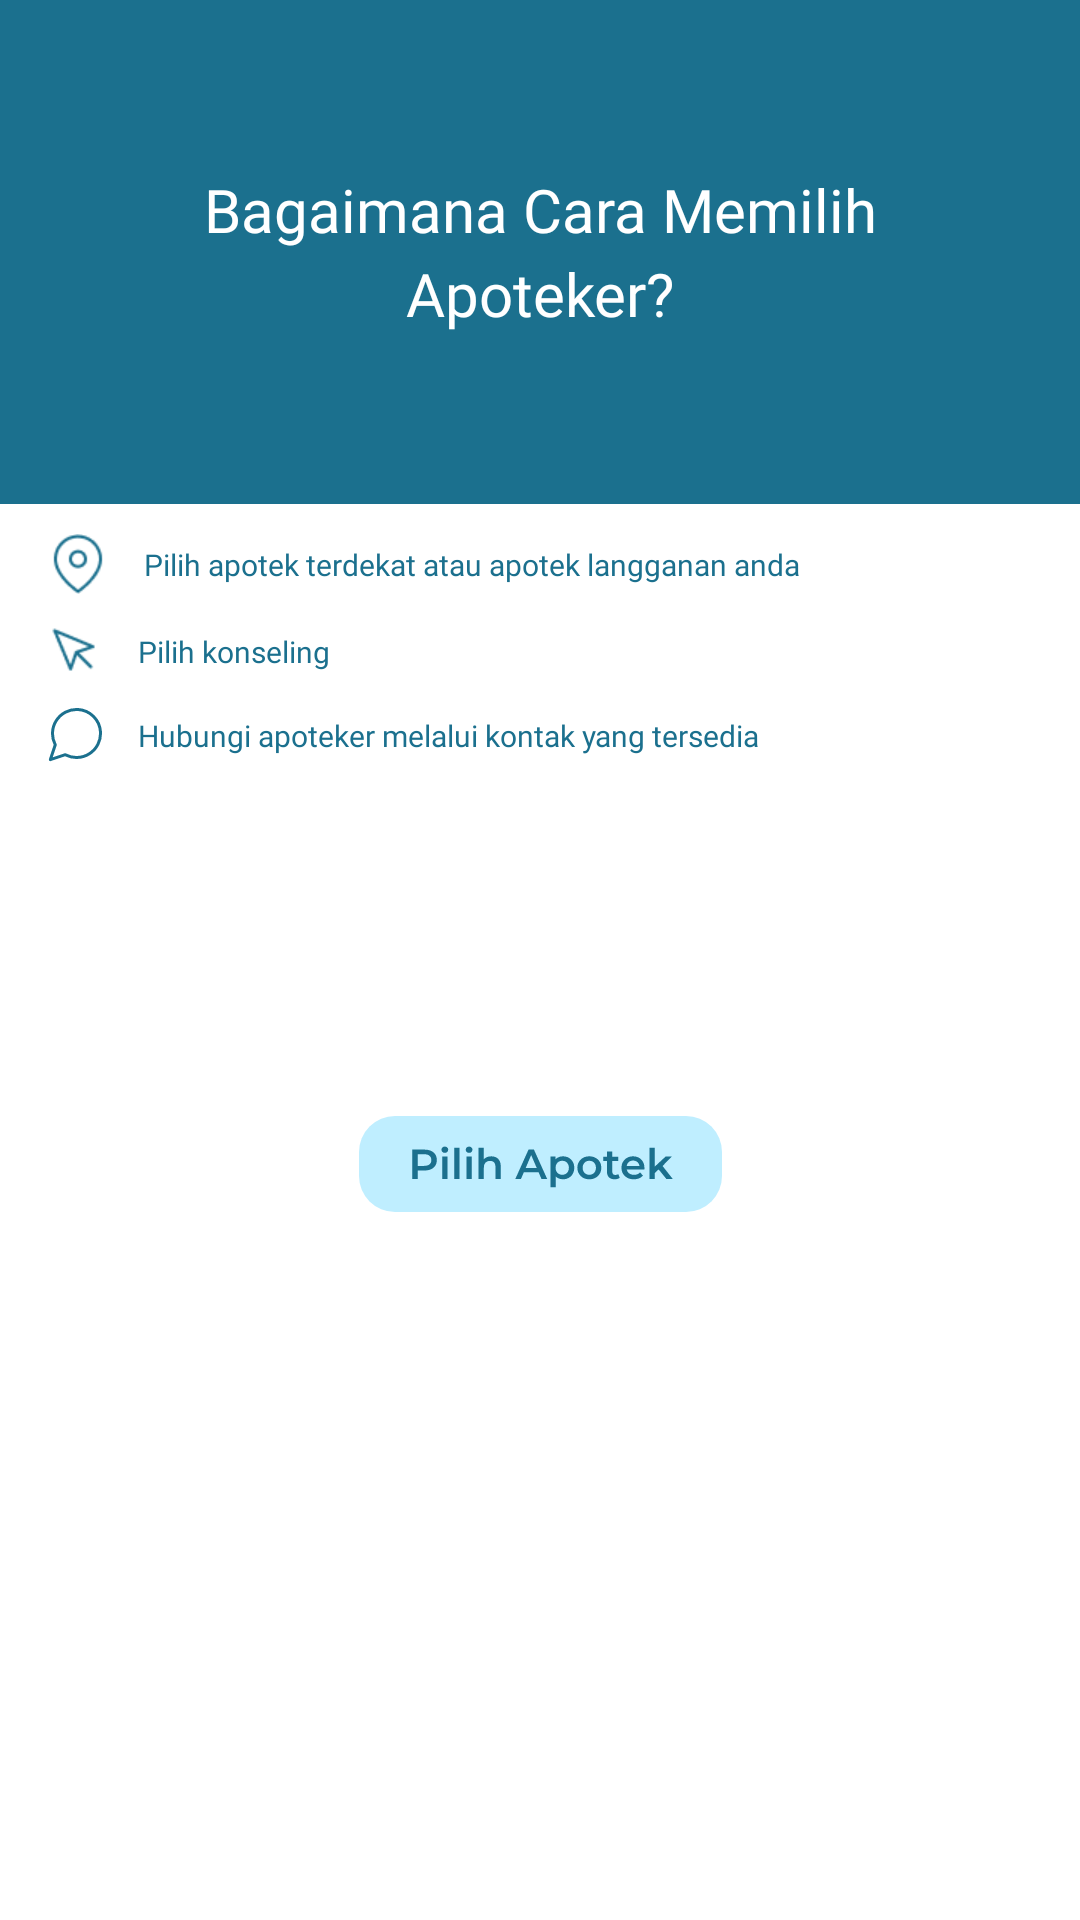

Locate icon controls on the screen. Image size 1080*1920, boxes as (x1, y1, x2, y2).
chat: (49, 708, 102, 762)
cursor mouse: (52, 628, 95, 671)
location: (53, 534, 103, 594)
